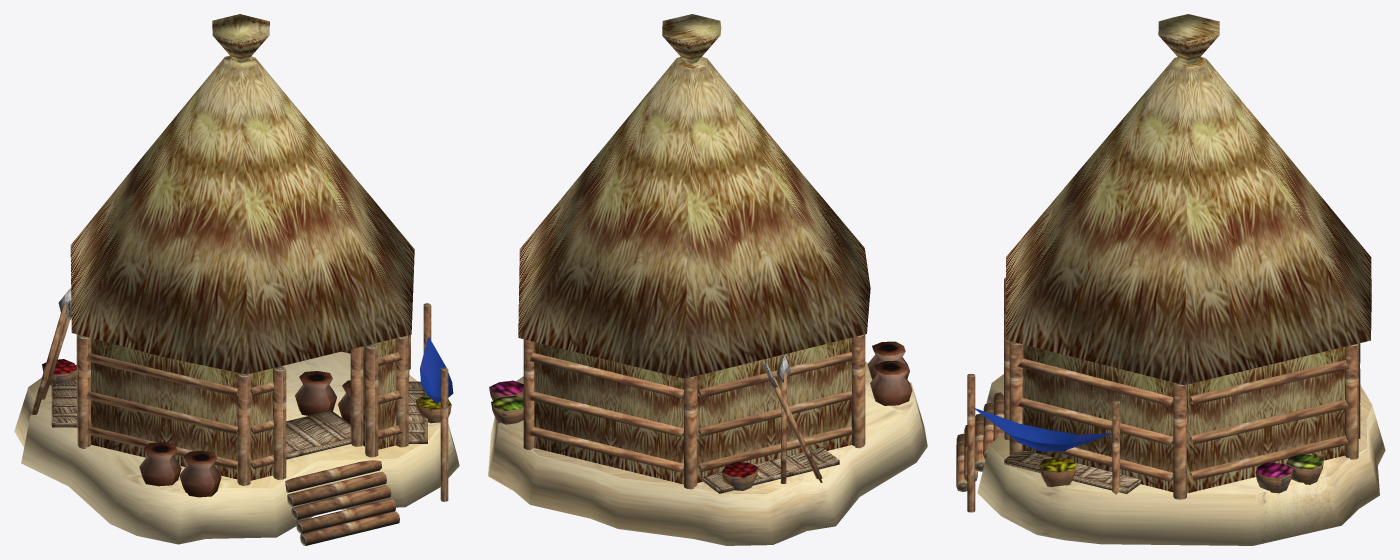
Rendered from house_1.dae.
3 views of the same model, side by side, from view 1: azimuth 30°, elevation 25°; view 2: azimuth 150°, elevation 25°; view 3: azimuth 270°, elevation 25° (orthographic). The views are drawn at different scales.
Visible parts, largest first — view 1: house_1; view 2: house_1; view 3: house_1.
Part boxes in pixels (bbox=[...]): house_1: bbox=[14, 14, 459, 545]; house_1: bbox=[488, 14, 927, 545]; house_1: bbox=[956, 14, 1385, 545].
Bounding box in the file's own units: 12.7 × 12.94 × 14.64.
